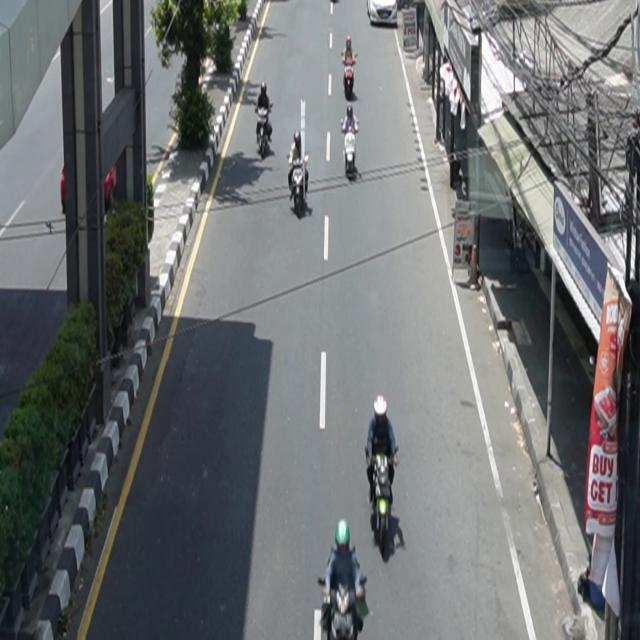car: (61, 163, 118, 215), (367, 1, 399, 26)
